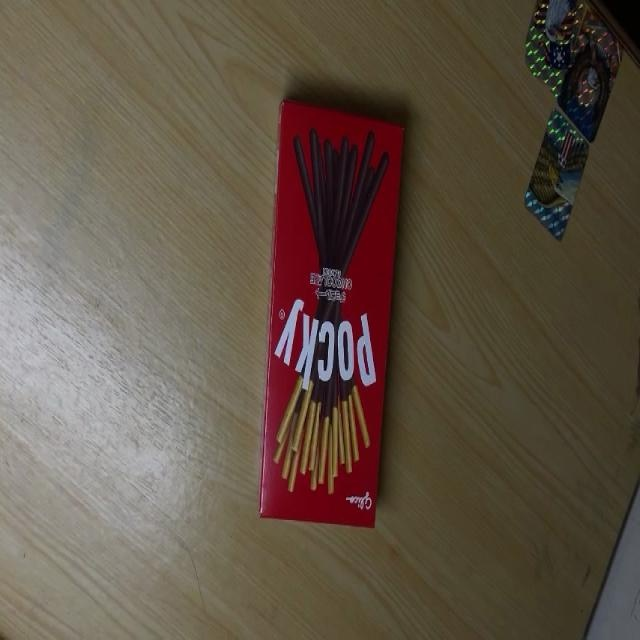Pocky: (260, 98, 405, 528)
